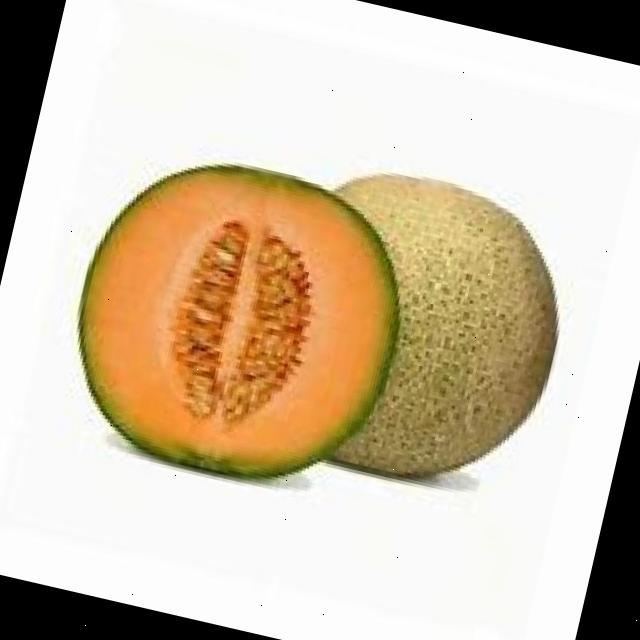Hami Melon: (47, 134, 426, 507), (272, 156, 588, 506)
